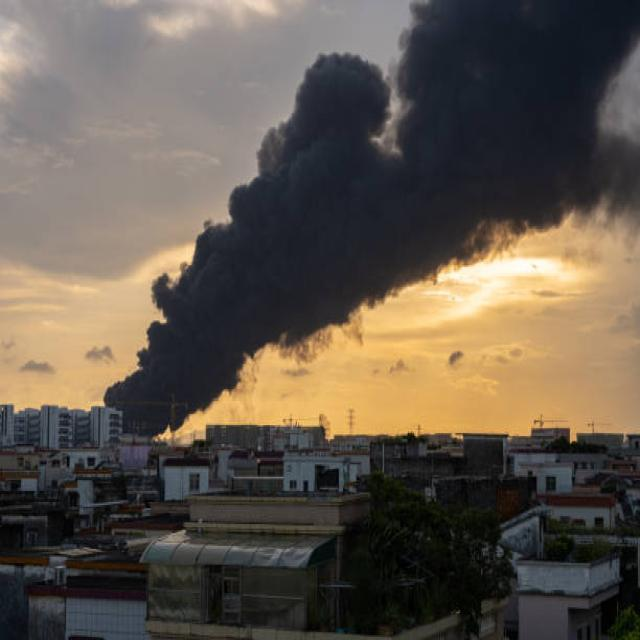Smoke: (404, 0, 640, 212), (289, 70, 481, 252), (226, 192, 364, 311), (172, 274, 322, 352), (118, 352, 240, 404)
